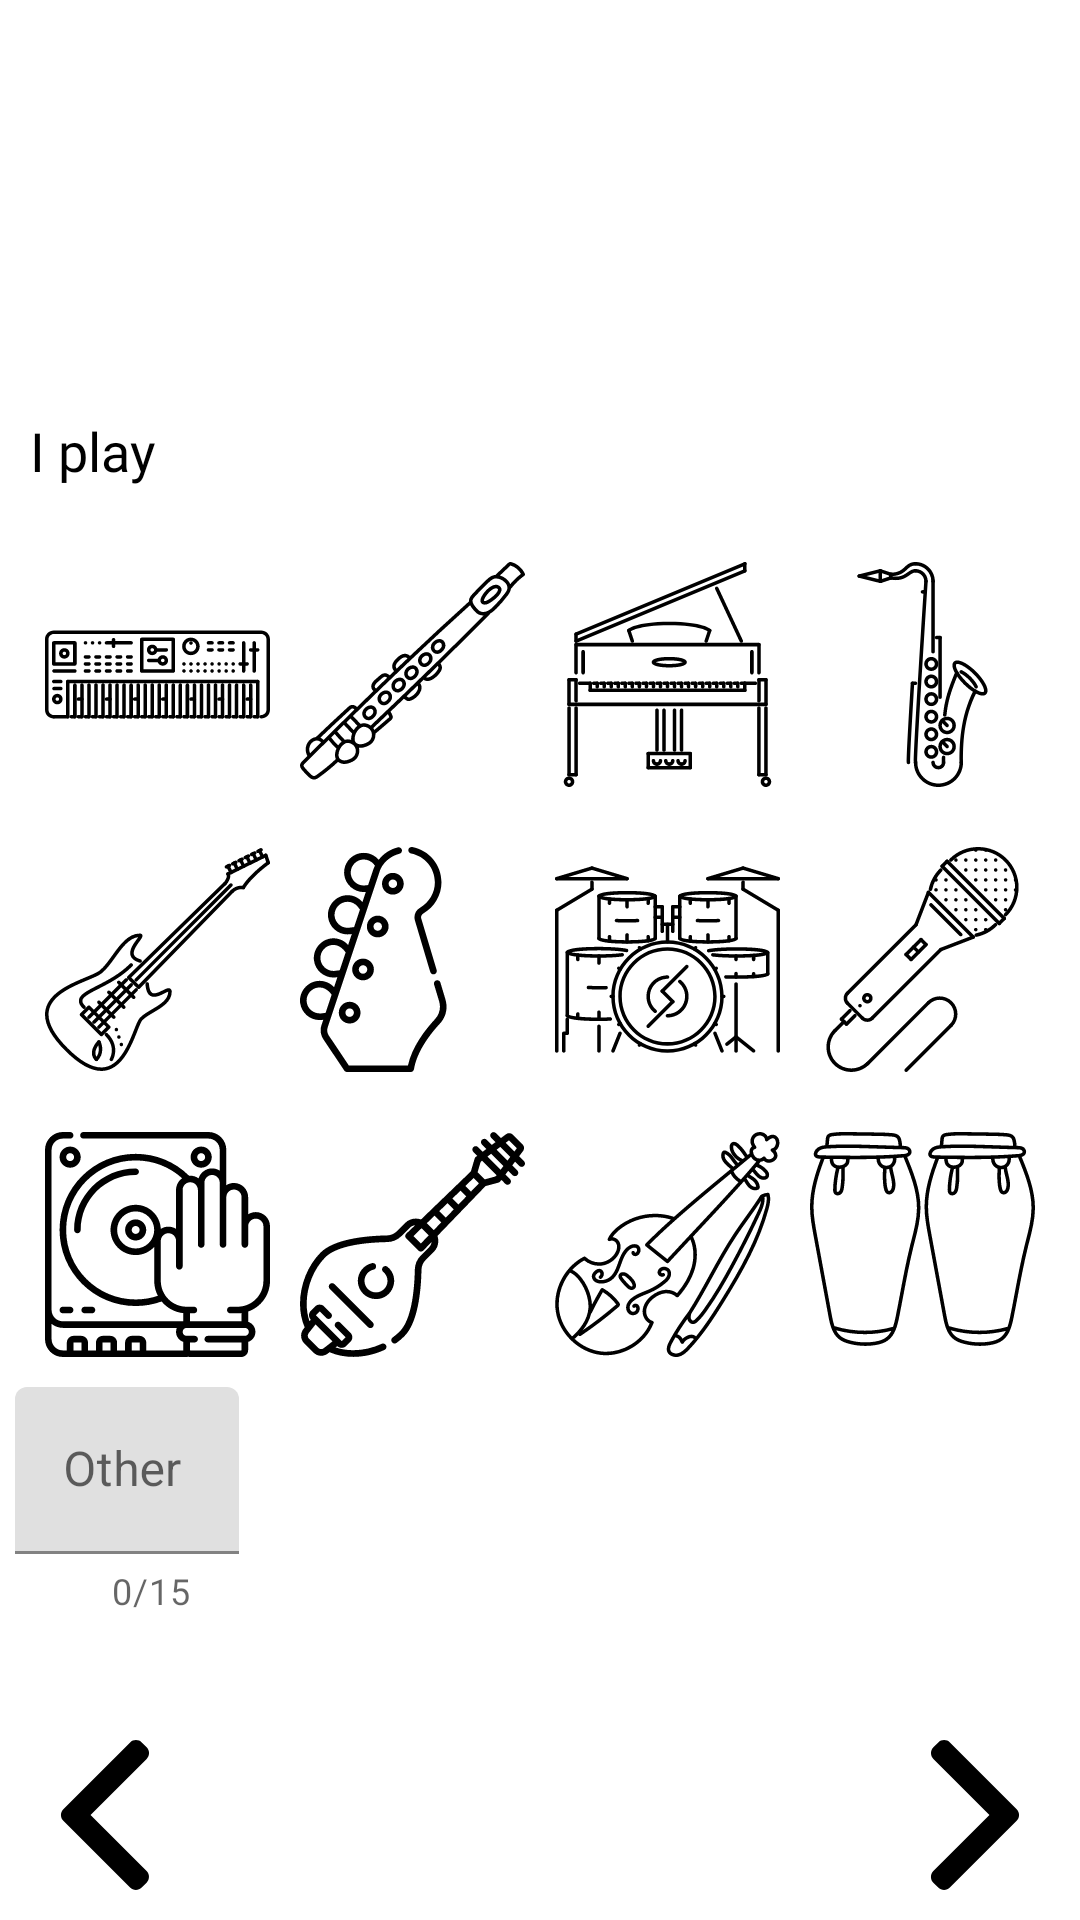

Named icons in this screenshot (1080*1920) and their bounding boxes, (x1, y1, x2, y2):
bass guitar: (300, 847, 447, 1072)
dj: (45, 1132, 270, 1357)
drums: (555, 866, 780, 1053)
electric guitar: (45, 848, 270, 1071)
flute: (300, 562, 525, 780)
keyboard: (45, 630, 270, 719)
Left arrow: (61, 1740, 149, 1890)
mandolin: (300, 1132, 525, 1357)
microphone: (826, 847, 1019, 1072)
percussion: (810, 1132, 1035, 1346)
piano: (563, 562, 772, 787)
Right arrow: (931, 1740, 1019, 1890)
saxophone: (857, 562, 988, 787)
violin: (555, 1132, 780, 1357)
